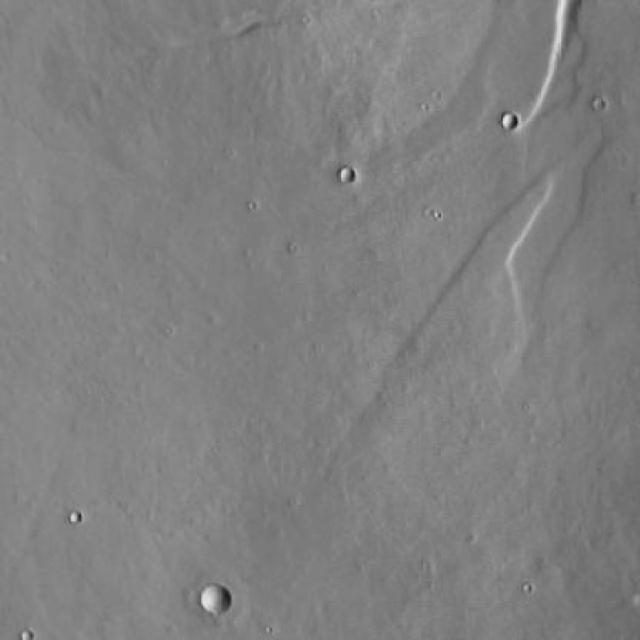crater: (200, 585, 228, 613)
